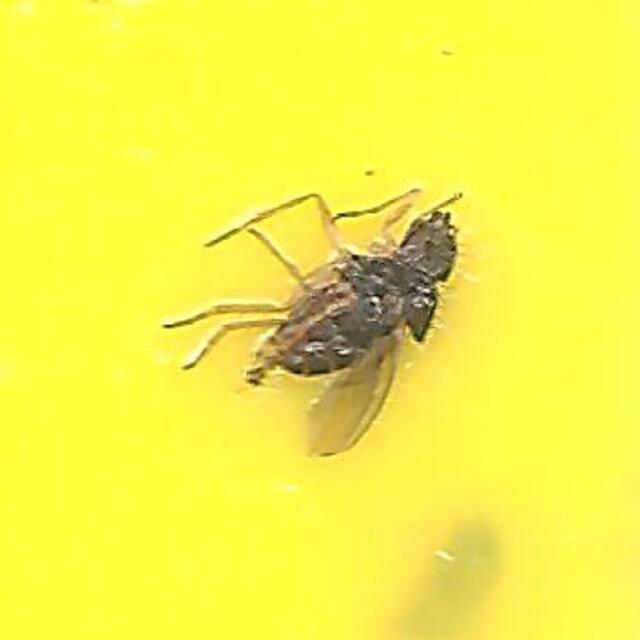Brachycera: (181, 189, 459, 451)
